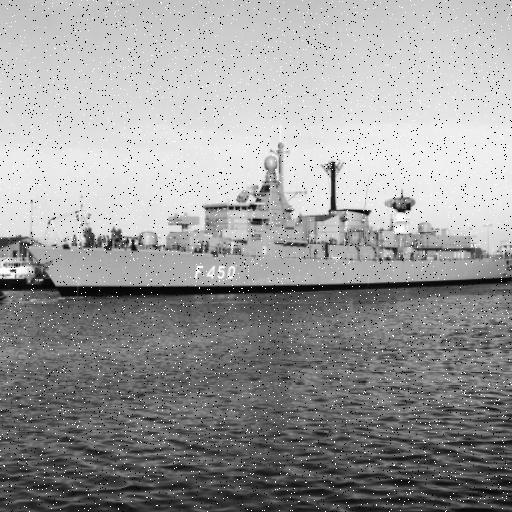Fragata: (23, 136, 512, 300)
